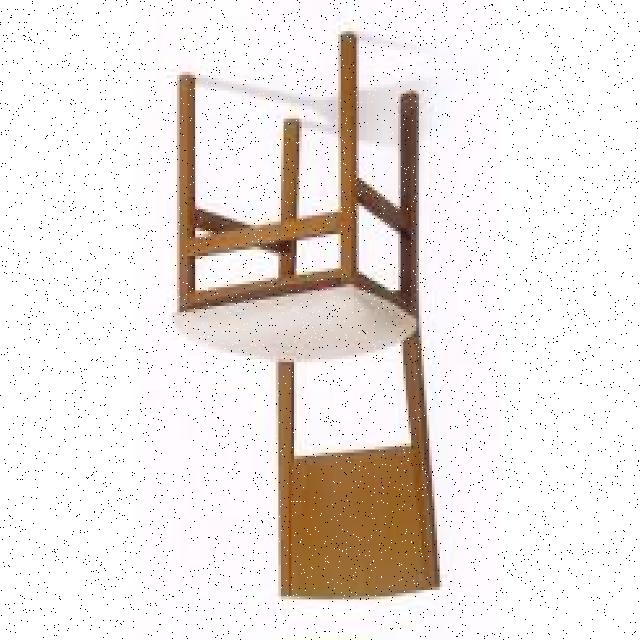bottle: (171, 23, 442, 603)
